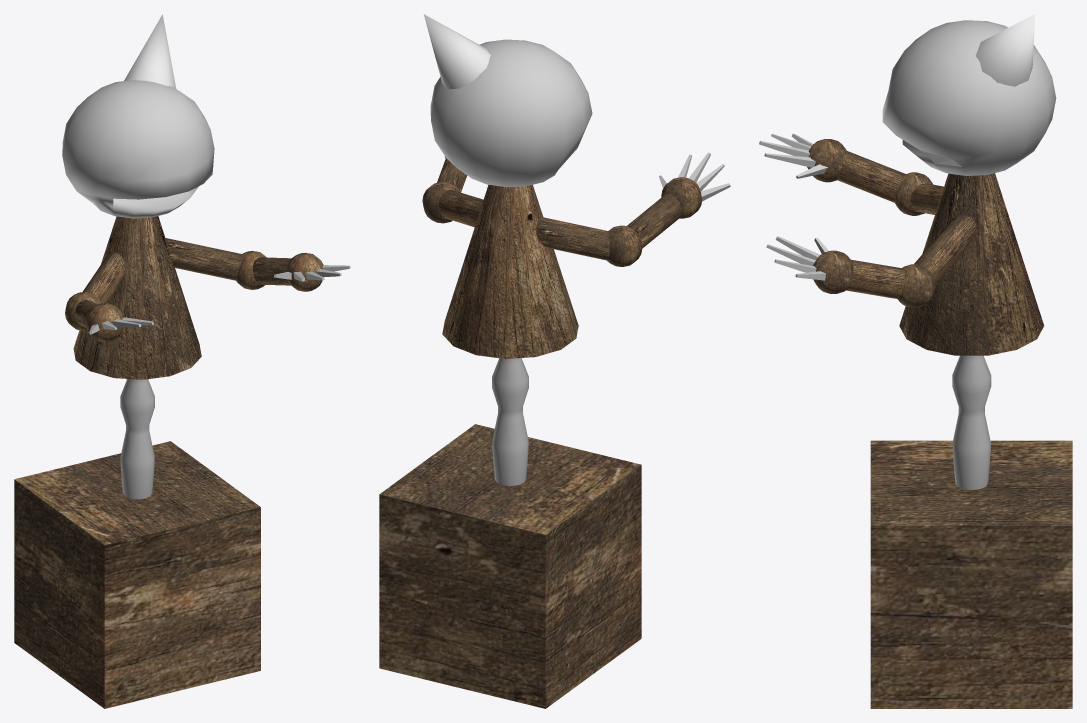
File: JackInTheBox.dae
The picture shows the model from 3 angles, left to right: view 1: azimuth 30°, elevation 25°; view 2: azimuth 150°, elevation 25°; view 3: azimuth 270°, elevation 25°; orthographic projection. The views are drawn at different scales.
Parts seen in each view (by area): view 1: Box, Body, Head; view 2: Box, Body, Head; view 3: Box, Body, Head.
Boxes of the visible parts, <box> form: Box: <box>14,441,260,708</box>; Body: <box>65,216,350,499</box>; Head: <box>62,14,214,218</box>; Box: <box>379,424,641,708</box>; Body: <box>422,152,730,485</box>; Head: <box>423,14,592,187</box>; Box: <box>870,440,1072,708</box>; Body: <box>759,133,1044,490</box>; Head: <box>882,14,1056,175</box>.
Bounding box in the file's own units: 3.36 × 3.1 × 7.44.
